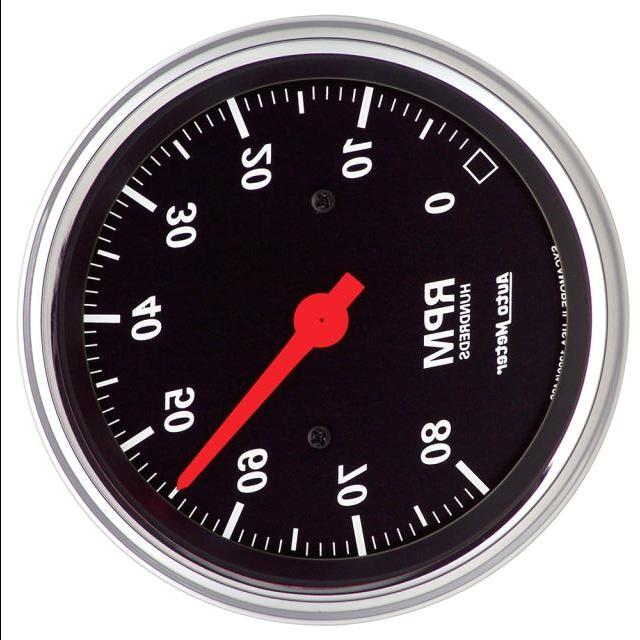Needle_Tip: (158, 433, 211, 536)
Needle_base: (276, 270, 367, 360)
max_value: (395, 409, 466, 472)
min_value: (401, 169, 479, 238)
